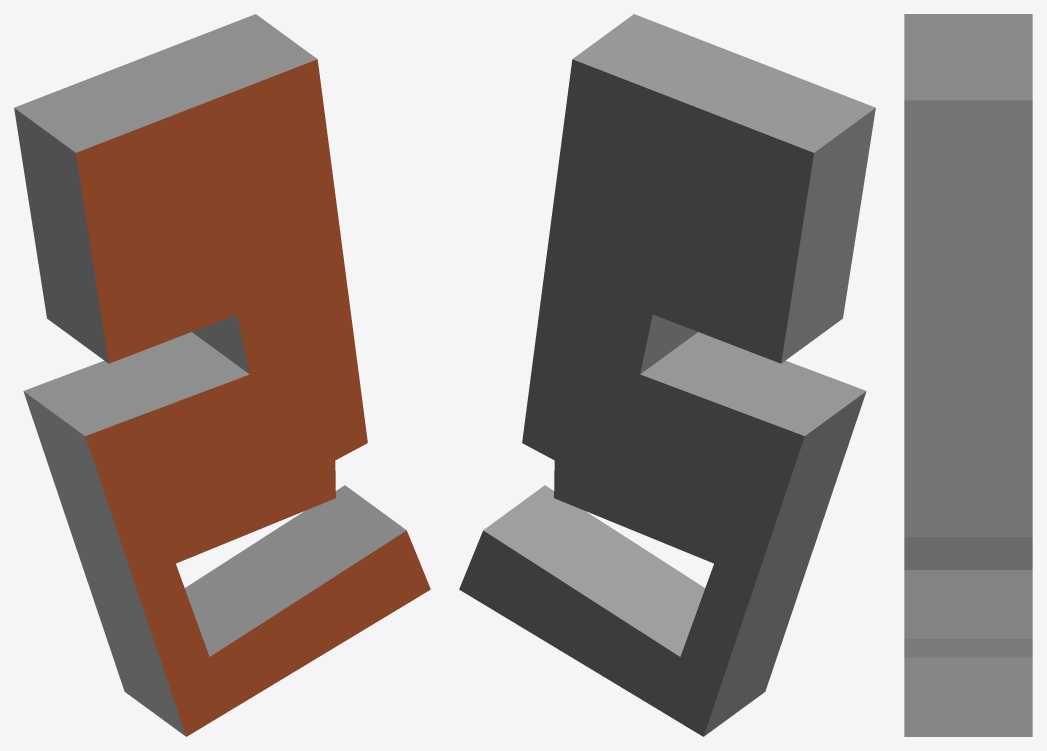
Rendered from construction_0473_assumed_A_Casa_h6m.obj.
3 renders of one model, left to right at view 1: azimuth 30°, elevation 25°; view 2: azimuth 150°, elevation 25°; view 3: azimuth 270°, elevation 25°, orthographic. The views are drawn at different scales.
Parts seen in each view (by area): view 1: construction_0473_assumed_A_Casa; view 2: construction_0473_assumed_A_Casa; view 3: construction_0473_assumed_A_Casa.
Boxes of the visible parts, x1,y1,x2,y2 form: construction_0473_assumed_A_Casa: [14, 14, 430, 736]; construction_0473_assumed_A_Casa: [459, 14, 875, 736]; construction_0473_assumed_A_Casa: [904, 14, 1032, 736].
Bounding box in the file's own units: 19.9 × 34.58 × 6.
